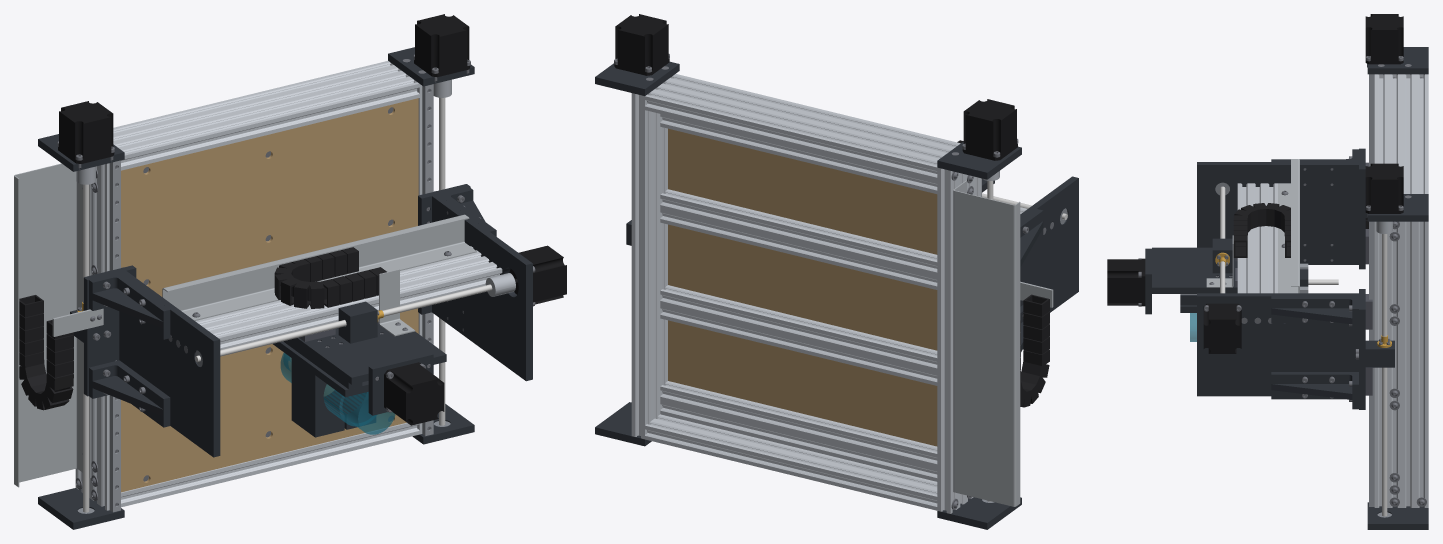
The picture shows the model from 3 angles, left to right: view 1: azimuth 30°, elevation 25°; view 2: azimuth 150°, elevation 25°; view 3: azimuth 270°, elevation 25°; orthographic projection. The views are drawn at different scales.
Visible parts, largest first — view 1: 8:Spoilboard, 27:Y_chain_tray, 3:Cross_beam_back, 41:Gantry_side_plate_left, 64:X_chain_tray, 50:Gantry_side_plate_right, 57:X_beam, 65:X_cable_chain, 28:Y_cable_chain, 2:Cross_beam_front, 82:X_carriage_plate, 0:Side_beam_left (+26 smaller); view 2: 8:Spoilboard, 27:Y_chain_tray, 3:Cross_beam_back, 1:Side_beam_right, 6:Bed_profile_3, 4:Bed_profile_1, 5:Bed_profile_2, 2:Cross_beam_front, 0:Side_beam_left, 41:Gantry_side_plate_left, 7:Bed_profile_4, 24:Y_motor_right (+7 smaller); view 3: 1:Side_beam_right, 50:Gantry_side_plate_right, 41:Gantry_side_plate_left, 3:Cross_beam_back, 57:X_beam, 82:X_carriage_plate, 53:Gantry_gusset_right_front, 54:Gantry_gusset_right_back, 64:X_chain_tray, 65:X_cable_chain, 17:Y_motor_left, 24:Y_motor_right (+15 smaller).
Part boxes in pixels (x1,y1,x2,y2): 8:Spoilboard: (121,98,418,492); 27:Y_chain_tray: (14,163,91,487); 3:Cross_beam_back: (113,61,419,170); 41:Gantry_side_plate_left: (119,271,220,457); 64:X_chain_tray: (162,214,476,320); 50:Gantry_side_plate_right: (432,194,532,381); 57:X_beam: (195,246,502,349); 65:X_cable_chain: (274,247,386,308); 28:Y_cable_chain: (19,295,73,410); 2:Cross_beam_front: (121,422,419,507); 82:X_carriage_plate: (290,324,446,384); 0:Side_beam_left: (75,163,109,510); 8:Spoilboard: (668,128,937,446); 27:Y_chain_tray: (953,180,1020,506); 3:Cross_beam_back: (645,74,960,181); 1:Side_beam_right: (631,75,673,439); 6:Bed_profile_3: (660,189,937,289); 4:Bed_profile_1: (660,381,937,481); 5:Bed_profile_2: (660,285,937,385); 2:Cross_beam_front: (645,414,937,510); 0:Side_beam_left: (937,167,981,513); 41:Gantry_side_plate_left: (1020,176,1078,312); 7:Bed_profile_4: (660,114,937,193); 24:Y_motor_right: (614,14,669,75); 1:Side_beam_right: (1374,221,1428,507); 50:Gantry_side_plate_right: (1197,293,1358,396); 41:Gantry_side_plate_left: (1197,162,1358,264); 3:Cross_beam_back: (1374,74,1428,193); 57:X_beam: (1237,183,1277,293); 82:X_carriage_plate: (1152,247,1237,293); 53:Gantry_gusset_right_front: (1271,372,1358,409); 54:Gantry_gusset_right_back: (1271,296,1358,333); 64:X_chain_tray: (1278,159,1299,293); 65:X_cable_chain: (1233,203,1290,257); 17:Y_motor_left: (1365,14,1403,64); 24:Y_motor_right: (1365,163,1403,213).
Bounding box in the file's own units: 630 × 572 × 475.
